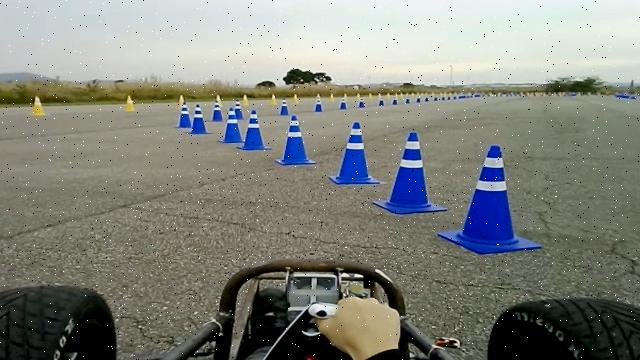blue cone: (438, 144, 542, 254), (373, 132, 448, 214), (329, 121, 381, 185), (275, 114, 317, 166), (236, 109, 272, 150), (218, 106, 245, 143), (186, 103, 213, 134), (175, 101, 192, 128), (211, 103, 224, 122), (233, 99, 245, 119), (280, 99, 290, 115)
yellow cone: (32, 96, 46, 116), (125, 94, 136, 112), (178, 94, 185, 109), (242, 93, 250, 106), (269, 93, 278, 104), (292, 93, 300, 104), (216, 94, 223, 106)
